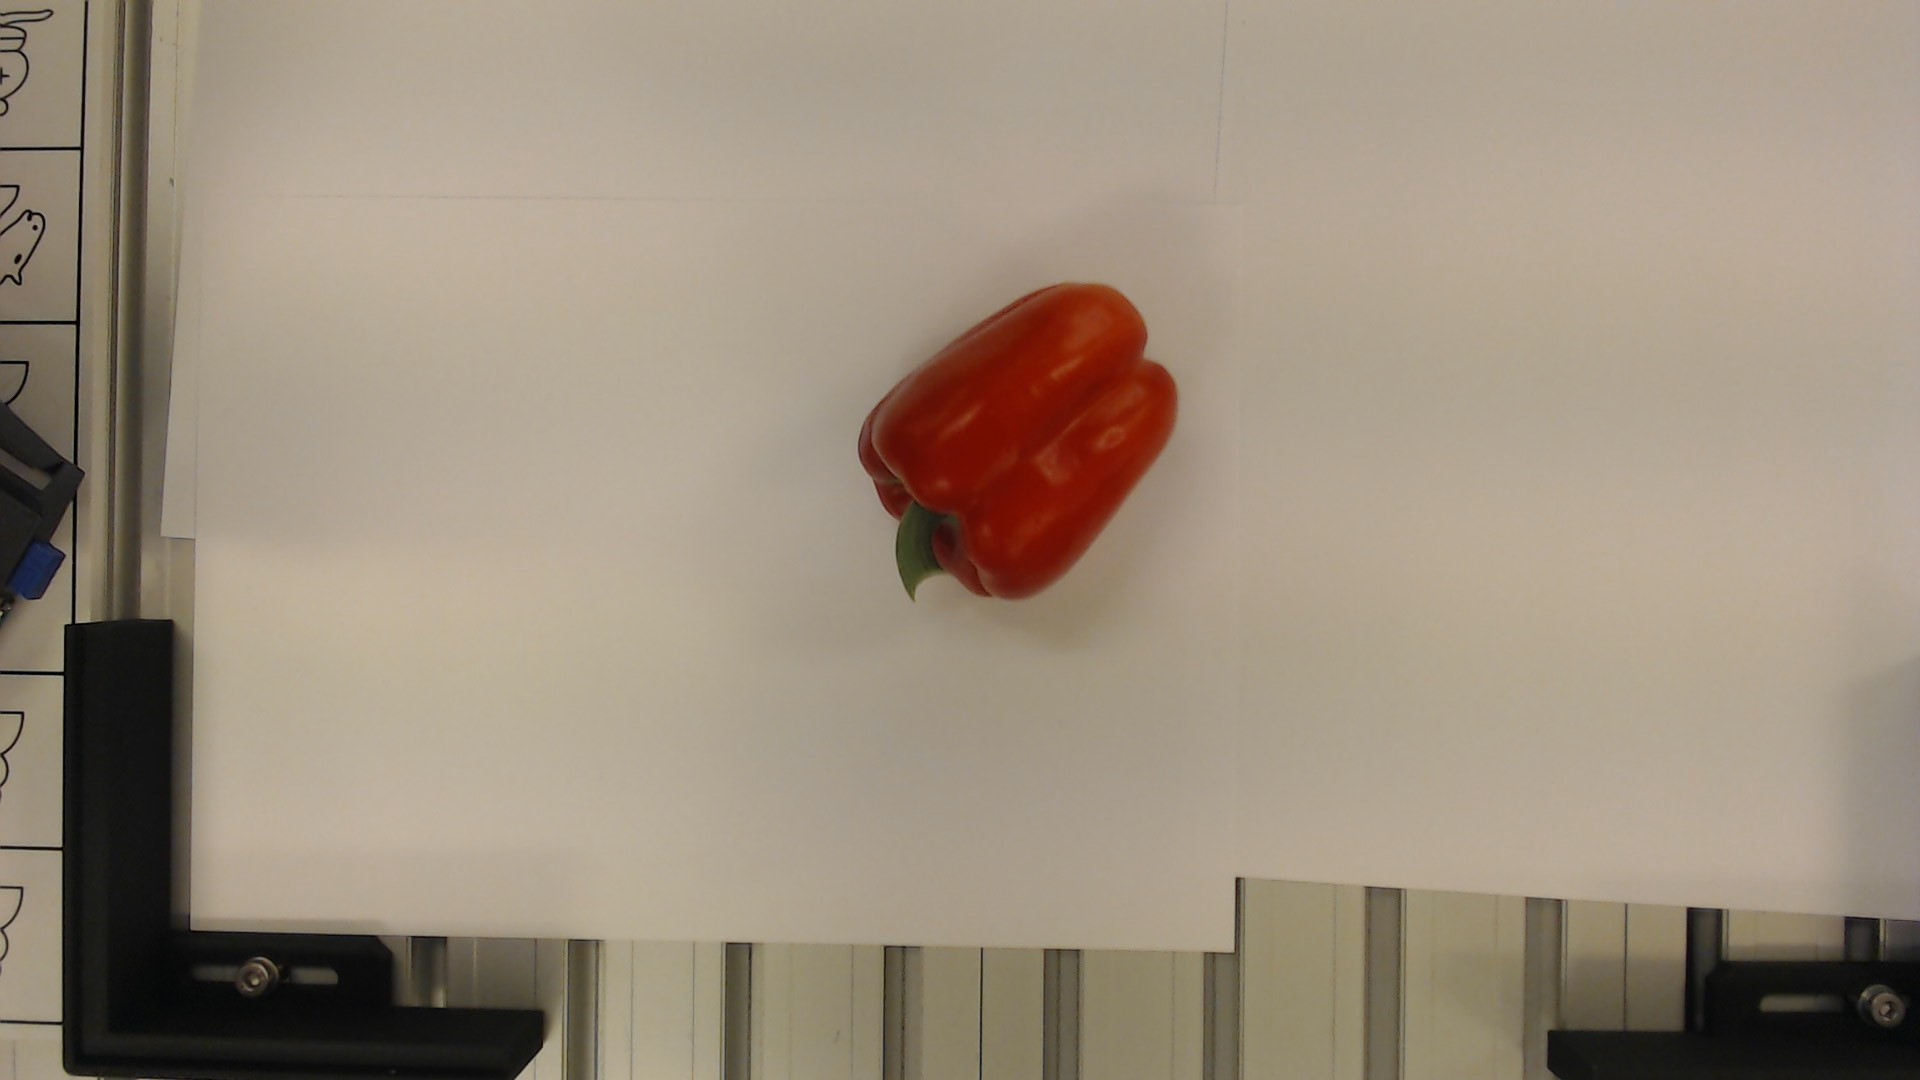Red Bell Pepper: (855, 276, 1182, 607)
